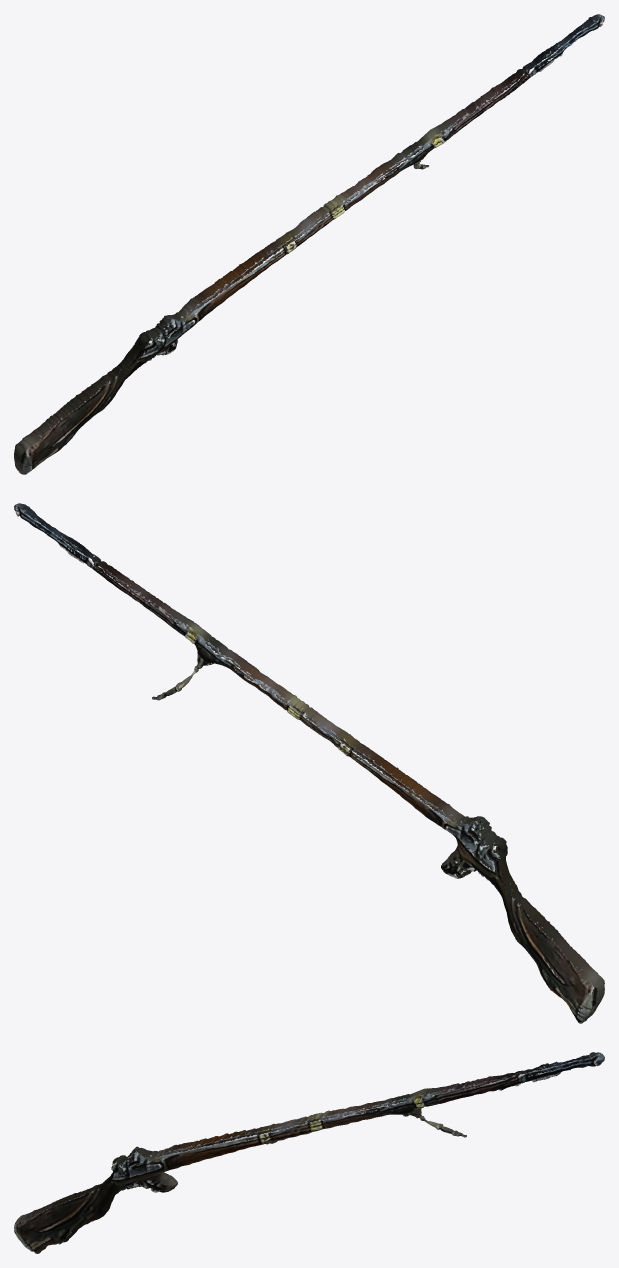
The model's file is kfl-2211.glb.
3 views of the same model, one above another, from view 1: azimuth 30°, elevation 25°; view 2: azimuth 150°, elevation 25°; view 3: azimuth 330°, elevation 25° (orthographic). The views are drawn at different scales.
Parts seen in each view (by area): view 1: kfl-2211; view 2: kfl-2211; view 3: kfl-2211.
Part boxes in pixels (<box>): kfl-2211: <box>14,14,604,474</box>; kfl-2211: <box>14,503,604,1023</box>; kfl-2211: <box>14,1052,604,1253</box>.
Size of the model in its own units: 0.9847 by 0.5594 by 0.0985.
4 materials, 4 textured.
